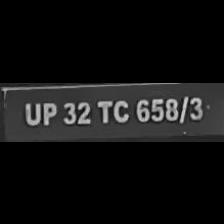2: (70, 96, 89, 126)
3: (62, 94, 76, 125)
5: (149, 92, 163, 122)
6: (131, 92, 151, 122)
8: (163, 92, 181, 124)
C: (112, 96, 130, 122)
T: (96, 96, 113, 122)
U: (20, 96, 44, 126), (43, 98, 58, 126)
